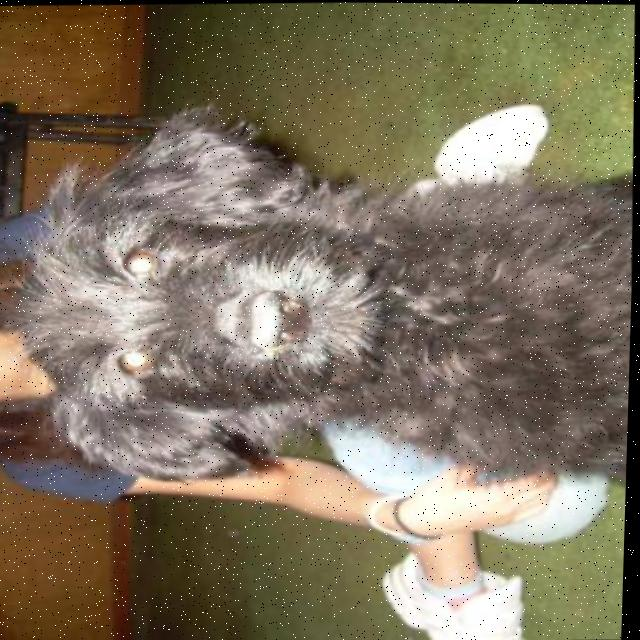dogs: (3, 95, 638, 528)
